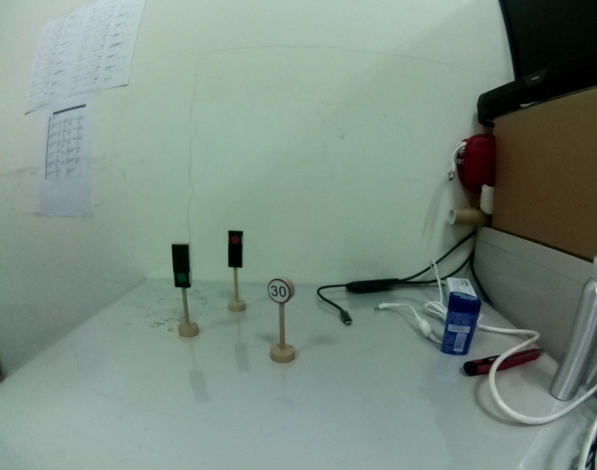Green: (169, 242, 195, 292)
Red: (224, 226, 246, 272)
Speed30: (265, 276, 297, 306)
